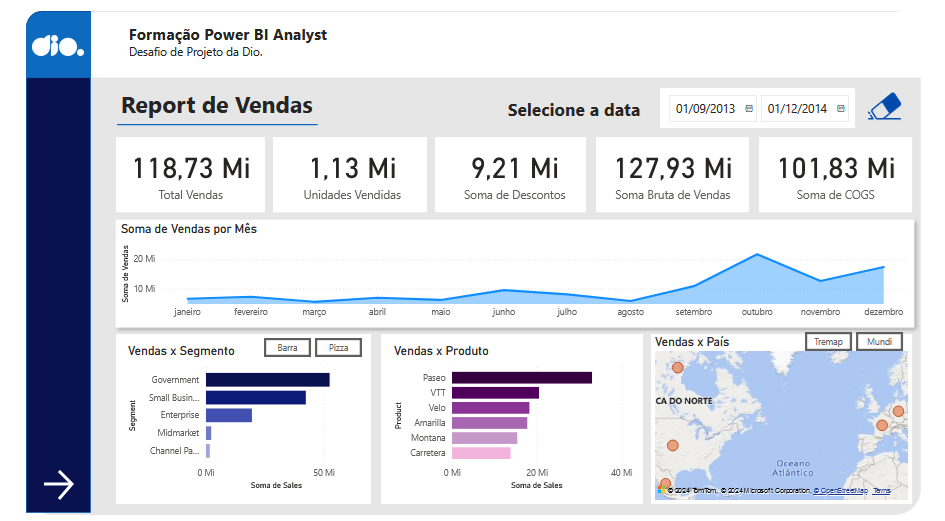

The page's visual inventory and layout, read from the dashboard file:
{"tool":"powerbi","page":{"name":"Página 1","canvas":[1280,720],"ordinal":0},"visuals":[{"type":"shape","box":[0,17.2,1234.2,695.1],"z":0},{"type":"slicer","fields":{"Values":["financials.Date"]},"box":[873.8,123,268.9,55.8],"z":0,"group":"g2"},{"type":"shape","box":[125,151.2,276.8,43.2],"z":0,"group":"g5"},{"type":"shape","box":[124.4,190.2,205.9,104.3],"z":0,"group":"g1"},{"type":"map","title":"Vendas x País","fields":{"Size":["Sum(financials. Sales)"],"Category":["financials.Country"]},"box":[862.4,462,360.4,234.5],"z":0,"group":"g3"},{"type":"shape","box":[0,16.4,89.3,692.1],"z":1000},{"type":"textbox","box":[125,117,298.9,55.8],"z":1000,"group":"g5"},{"type":"textbox","box":[659.3,131.6,203.1,40],"z":1000,"group":"g2"},{"type":"shape","box":[340.6,190.3,213,104.3],"z":1000,"group":"g1"},{"type":"shape","box":[0,17.9,89.3,90.8],"z":2000},{"type":"actionButton","box":[1164.1,118.7,70.1,55.8],"z":2000,"group":"g2"},{"type":"shape","box":[565,190.3,208.8,104.3],"z":2000,"group":"g1"},{"type":"clusteredBarChart","title":"Vendas x Segmento","fields":{"Y":["Sum(financials. Sales)"],"Category":["financials.Segment"]},"box":[135.9,474.9,327.5,207.4],"z":2500,"group":"g4"},{"type":"actionButton","title":"Botão - pie chart","box":[399.2,468,64.7,26.2],"z":2750,"group":"g4"},{"type":"image","title":"logo_dio","box":[3,22.3,81.9,83.3],"z":3000},{"type":"image","title":"clean","box":[1156,120.6,56.6,55.1],"z":3000,"group":"g2"},{"type":"shape","box":[786.7,190.3,211.6,104.3],"z":3000,"group":"g1"},{"type":"actionButton","title":"Botão - bar chart","box":[329,468,64.7,26.2],"z":3000,"group":"g4"},{"type":"shape","box":[89.3,17.9,1165.4,90.8],"z":4000},{"type":"shape","box":[1011.2,190.3,211.6,104.3],"z":4000,"group":"g1"},{"type":"textbox","box":[136.1,28.6,315.8,58.8],"z":5000},{"type":"card","fields":{"Values":["Sum(financials.COGS)"]},"box":[1026.8,194.5,180.2,90.1],"z":5000,"group":"g1"},{"type":"group","id":"g1","title":"Cartões","box":[124.4,190.2,1098.4,104.4],"z":6000},{"type":"card","fields":{"Values":["Sum(financials.Gross Sales)"]},"box":[802.3,194.5,180.2,90.1],"z":6000,"group":"g1"},{"type":"card","fields":{"Values":["Sum(financials.Discounts)"]},"box":[584.9,194.5,177.3,90.1],"z":7000,"group":"g1"},{"type":"shape","box":[114.4,294.6,1119.8,167.3],"z":7000},{"type":"card","fields":{"Values":["Sum(financials.Units Sold)"]},"box":[361.8,194.5,175.9,90.1],"z":8000,"group":"g1"},{"type":"shape","box":[489.1,461.9,361.8,234.5],"z":8000},{"type":"card","fields":{"Values":["Sum(financials. Sales)"]},"box":[137.3,194.5,180.2,90.1],"z":9000,"group":"g1"},{"type":"shape","box":[862.4,461.9,360.4,234.5],"z":9000},{"type":"shape","title":"Sid VendasxSegmento","box":[124.4,461.9,351.8,234.5],"z":10000},{"type":"areaChart","fields":{"Category":["financials.Date.Variation.Hierarquia de datas.Mês"],"Y":["Sum(financials. Sales)"]},"box":[125,306.6,1096.9,144.4],"z":11000},{"type":"clusteredBarChart","title":"Vendas x Produto","fields":{"Y":["Sum(financials. Sales)"],"Category":["financials.Product"]},"box":[502,474.8,338.9,207.4],"z":12000},{"type":"actionButton","box":[17.9,644.5,55.1,52.1],"z":12500},{"type":"group","id":"g2","title":"Filtro por data","box":[659.3,118.7,574.9,60.1],"z":13000},{"type":"group","id":"g3","title":"Vendas x País","box":[862.4,458.7,361.2,237.8],"z":14000},{"type":"group","id":"g4","title":"Vendas x Segmento","box":[124.8,468,352,222.5],"z":15000},{"type":"group","id":"g5","title":"Title report","box":[125,117,298.9,77.4],"z":16000},{"type":"actionButton","title":"Botão - mapa tree","box":[1075.3,458.7,64.7,26.2],"z":16251,"group":"g3"},{"type":"actionButton","title":"Botão - mapa chart","box":[1145.5,458.7,64.7,26.2],"z":16501,"group":"g3"}]}

Visuals, with their boxes on the page's 1280x720 design canvas (x1, y1, x2, y2). These are canvas units, not pixel positions in the 945x521 screenshot, which may show the page scaled, cropped or inside an application window:
shape: bbox=[0, 17, 1234, 712]
slicer - financials.Date: bbox=[874, 123, 1143, 179]
shape: bbox=[125, 151, 402, 194]
shape: bbox=[124, 190, 330, 294]
"Vendas x País" map: bbox=[862, 462, 1223, 696]
shape: bbox=[0, 16, 89, 708]
textbox: bbox=[125, 117, 424, 173]
textbox: bbox=[659, 132, 862, 172]
shape: bbox=[341, 190, 554, 295]
shape: bbox=[0, 18, 89, 109]
actionButton: bbox=[1164, 119, 1234, 174]
shape: bbox=[565, 190, 774, 295]
"Vendas x Segmento" clusteredBarChart: bbox=[136, 475, 463, 682]
"Botão - pie chart" actionButton: bbox=[399, 468, 464, 494]
"logo_dio" image: bbox=[3, 22, 85, 106]
"clean" image: bbox=[1156, 121, 1213, 176]
shape: bbox=[787, 190, 998, 295]
"Botão - bar chart" actionButton: bbox=[329, 468, 394, 494]
shape: bbox=[89, 18, 1255, 109]
shape: bbox=[1011, 190, 1223, 295]
textbox: bbox=[136, 29, 452, 87]
card - Sum(financials.COGS): bbox=[1027, 194, 1207, 285]
"Cartões" group: bbox=[124, 190, 1223, 295]
card - Sum(financials.Gross Sales): bbox=[802, 194, 982, 285]
card - Sum(financials.Discounts): bbox=[585, 194, 762, 285]
shape: bbox=[114, 295, 1234, 462]
card - Sum(financials.Units Sold): bbox=[362, 194, 538, 285]
shape: bbox=[489, 462, 851, 696]
card - Sum(financials. Sales): bbox=[137, 194, 318, 285]
shape: bbox=[862, 462, 1223, 696]
"Sid VendasxSegmento" shape: bbox=[124, 462, 476, 696]
areaChart - financials.Date.Variation.Hierarquia de datas.Mês x Sum(financials. Sales): bbox=[125, 307, 1222, 451]
"Vendas x Produto" clusteredBarChart: bbox=[502, 475, 841, 682]
actionButton: bbox=[18, 644, 73, 697]
"Filtro por data" group: bbox=[659, 119, 1234, 179]
"Vendas x País" group: bbox=[862, 459, 1224, 696]
"Vendas x Segmento" group: bbox=[125, 468, 477, 690]
"Title report" group: bbox=[125, 117, 424, 194]
"Botão - mapa tree" actionButton: bbox=[1075, 459, 1140, 485]
"Botão - mapa chart" actionButton: bbox=[1146, 459, 1210, 485]
